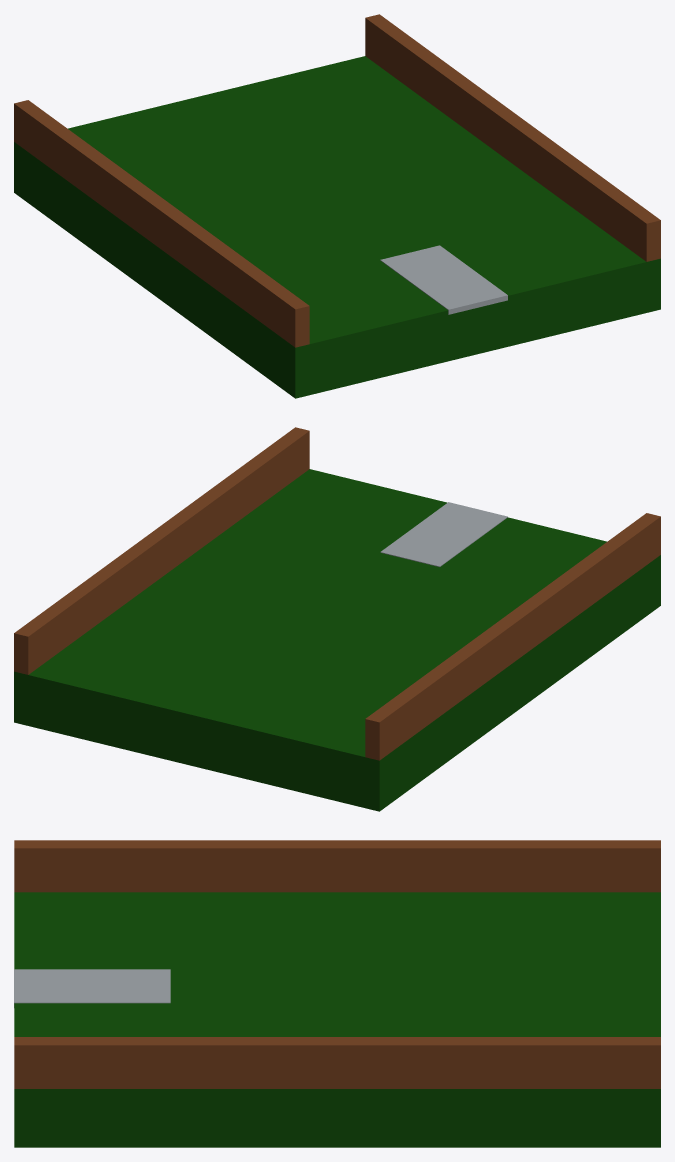
The model's file is minigolf_start.glb.
3 views of the same model, one above another, from view 1: azimuth 30°, elevation 25°; view 2: azimuth 150°, elevation 25°; view 3: azimuth 270°, elevation 25° (orthographic). The views are drawn at different scales.
Parts seen in each view (by area): view 1: Base Track, Side, Side.001, Tee; view 2: Base Track, Side, Side.001, Tee; view 3: Base Track, Side, Side.001, Tee.
Boxes of the visible parts, x1,y1,x2,y2 form: Base Track: (14,56,660,398); Side: (14,100,309,347); Side.001: (365,14,660,261); Tee: (380,245,507,314); Base Track: (14,469,660,811); Side: (365,513,660,760); Side.001: (14,427,309,674); Tee: (380,502,507,566); Base Track: (14,892,660,1147); Side: (14,840,660,892); Side.001: (14,1037,660,1088); Tee: (14,969,170,1007).
Bounding box in the file's own units: 1.5 × 0.35 × 2.
